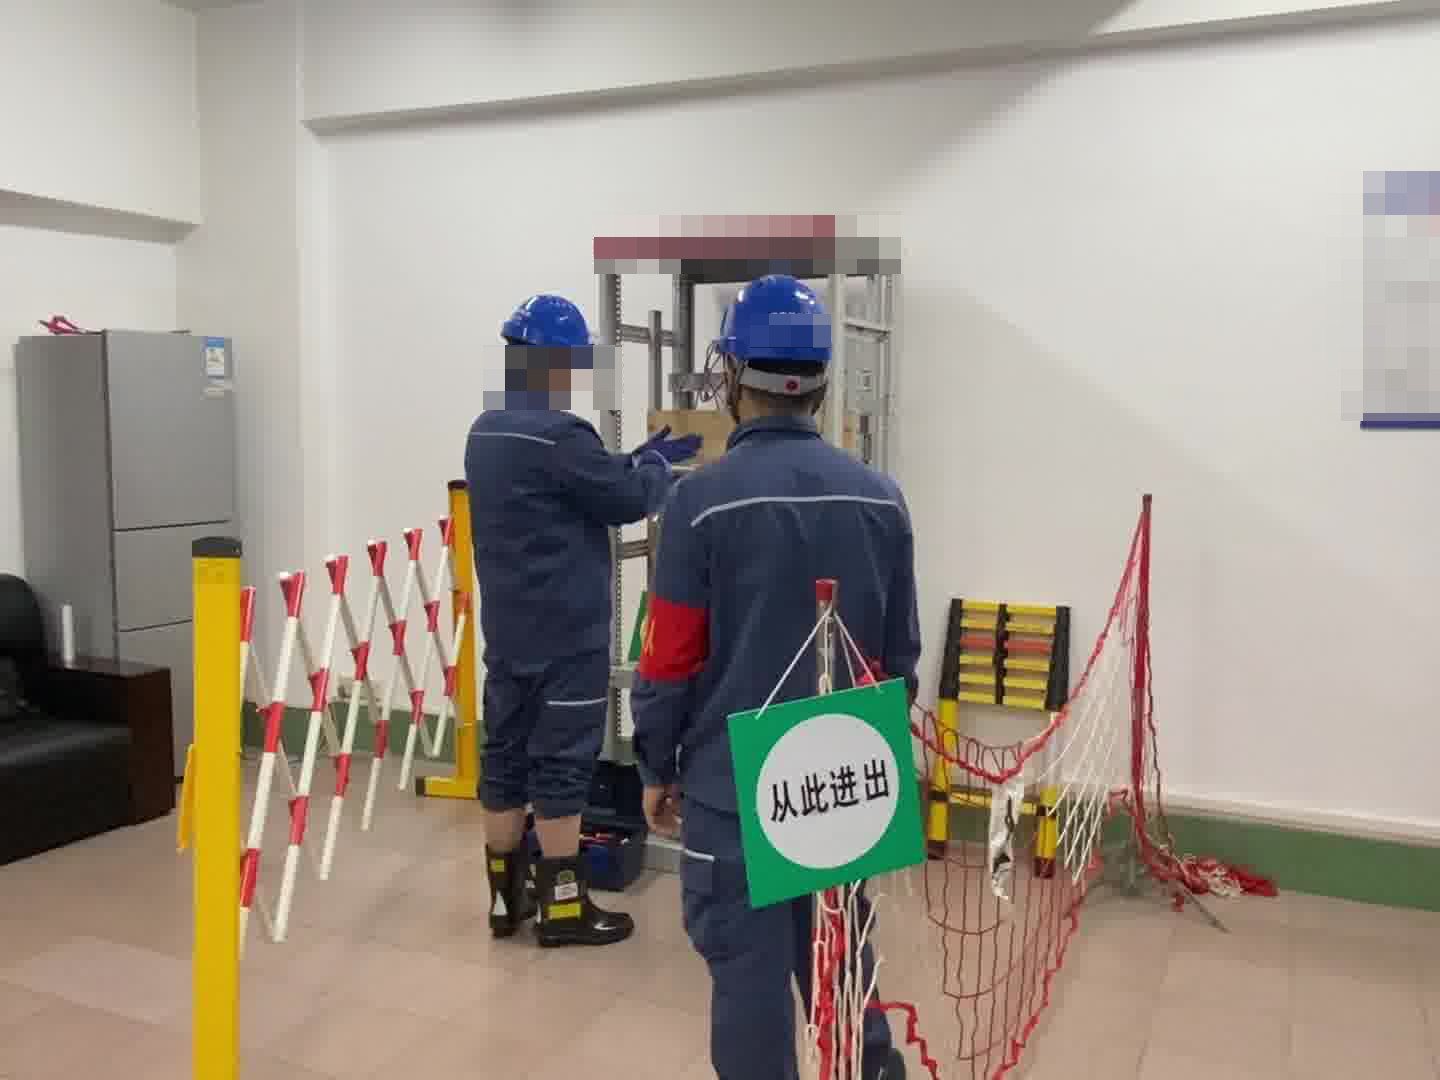badge: (640, 597, 712, 684)
downsuit: (676, 838, 907, 1080), (474, 658, 609, 817)
glove: (630, 419, 704, 466)
halt: (717, 274, 837, 413), (499, 293, 598, 397)
hand: (642, 781, 684, 843)
inear: (539, 347, 577, 399)
intosign: (727, 677, 927, 910)
person: (627, 269, 925, 1079), (454, 291, 668, 937)
shoe: (479, 843, 636, 946)
upsuit: (628, 410, 922, 716), (463, 393, 637, 648)
wrongbottom: (474, 759, 589, 852)
